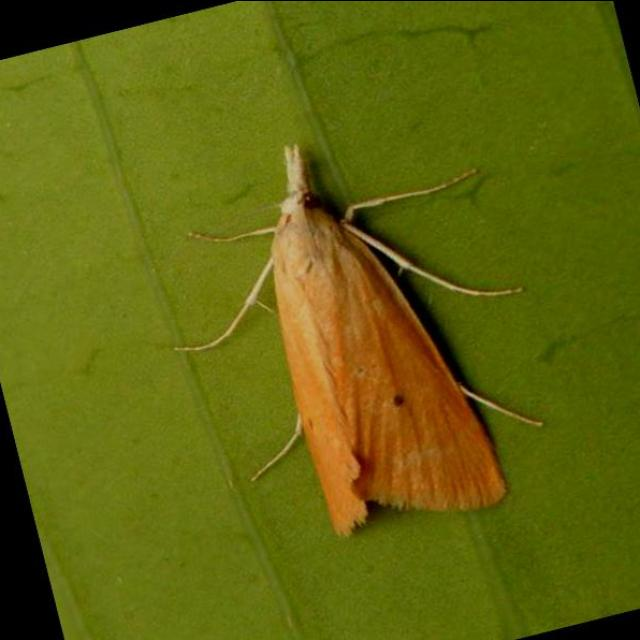stem borer: (180, 145, 541, 534)
